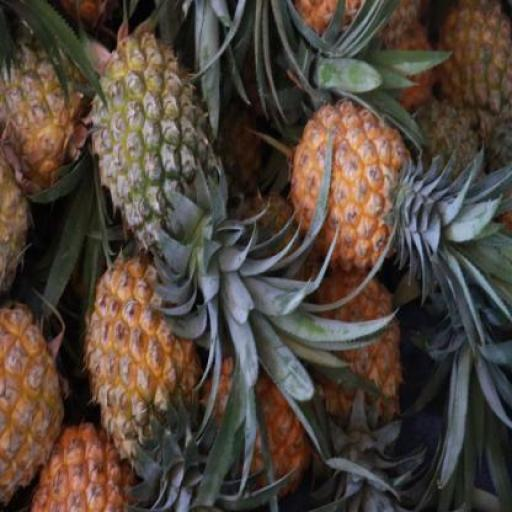------------------------------: (90, 32, 220, 256), (0, 17, 100, 182)
Pineapple - v8 v1: (84, 247, 200, 445), (291, 94, 411, 278), (0, 307, 63, 502), (31, 426, 135, 511)
